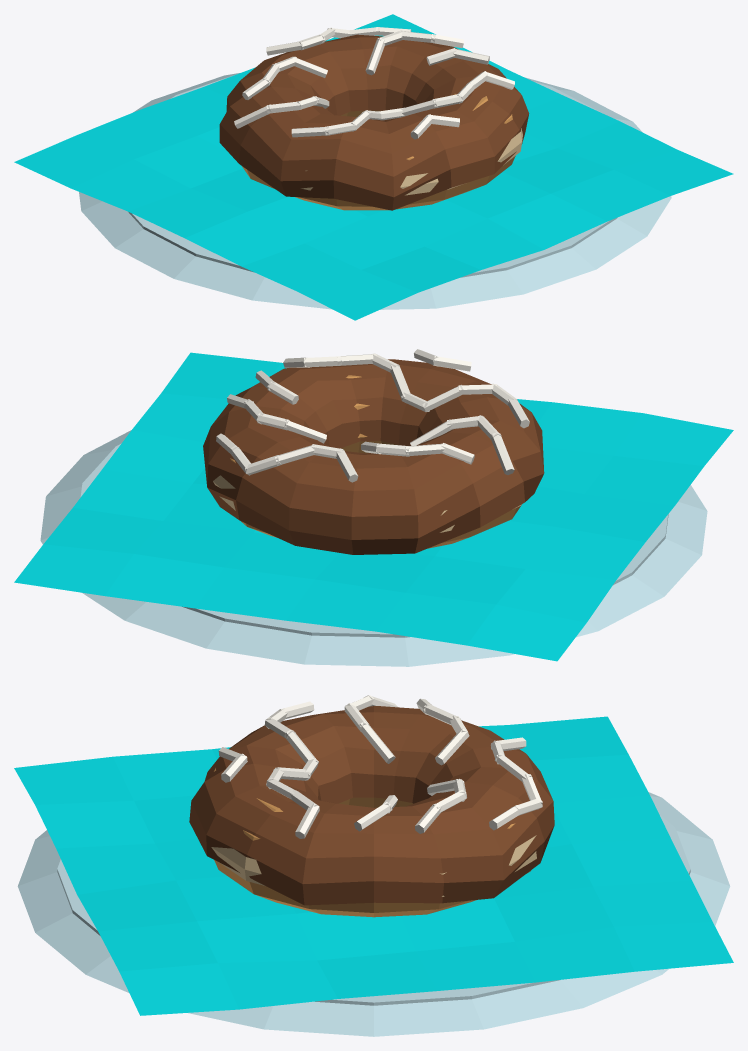
File: Donut_Chocolate_Plate.fbx
The picture shows the model from 3 angles, top to bottom: view 1: azimuth 30°, elevation 25°; view 2: azimuth 150°, elevation 25°; view 3: azimuth 270°, elevation 25°; orthographic projection. The views are drawn at different scales.
Parts seen in each view (by area): view 1: Donut_Chocolate_Plate; view 2: Donut_Chocolate_Plate; view 3: Donut_Chocolate_Plate.
Part boxes in pixels (left/top/right/bottom): Donut_Chocolate_Plate: left=14, top=14, right=733, bottom=320; Donut_Chocolate_Plate: left=14, top=349, right=733, bottom=666; Donut_Chocolate_Plate: left=14, top=695, right=733, bottom=1036.
Size of the model in its own units: 0.8184 by 0.167 by 0.8184.
